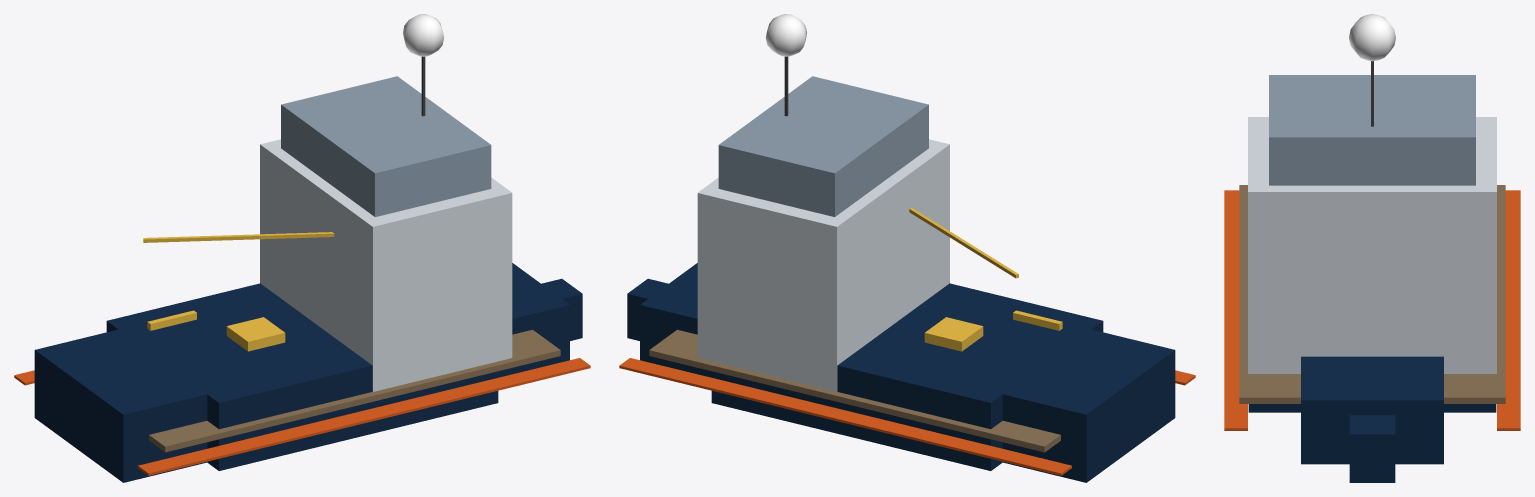
Rendered from 551bc3d6-b53c-43d4-b4e7-5547dbf6bc52.glb.
3 renders of one model, left to right at view 1: azimuth 30°, elevation 25°; view 2: azimuth 150°, elevation 25°; view 3: azimuth 270°, elevation 25°, orthographic. The views are drawn at different scales.
Bounding box in the file's own units: 10.6 × 7.21 × 5.
